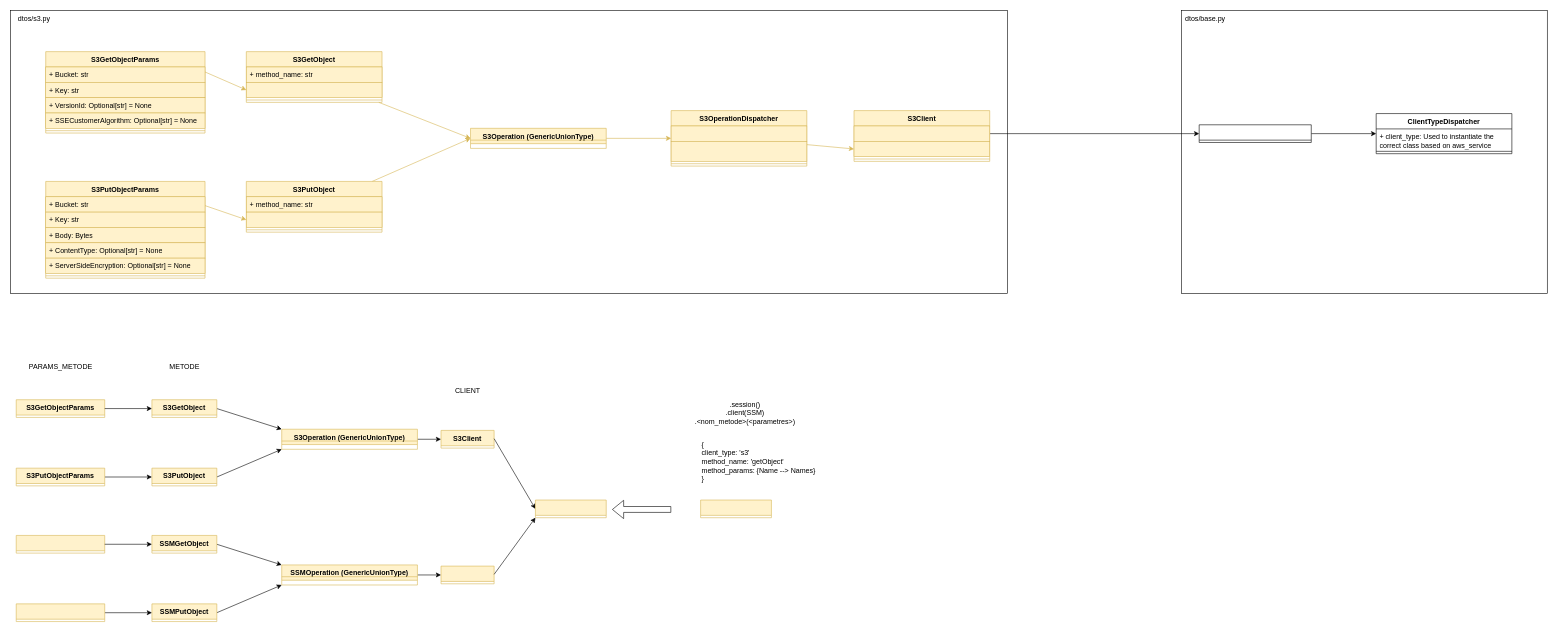
The diagram is 1558 pixels wide and 632 high, and some of its shapes have lost their labels. The box of each missing label's shape, as (x1, y1, x2, y2) in pixels:
+ client_type: Literal['s3']: (853, 125, 990, 141)
+ method_dispatcher: S3Dispatcher: (853, 141, 990, 157)
+ method_name: Used to instantiate the correct method: (671, 141, 807, 161)
+ method_params: S3GetObjectParams: (246, 82, 382, 98)
+ method_params: S3PutObjectParams: (246, 212, 382, 227)
+ operation: S3Operation: (671, 125, 807, 141)
aws_execute(): (535, 499, 606, 518)
Clients (GenericUnionType): (1199, 124, 1311, 142)
entry_point: (700, 499, 771, 518)
SSMClient: (440, 566, 494, 584)
SSMGetObjectParams: (16, 535, 105, 553)
SSMPutObjectParams: (16, 603, 105, 622)
